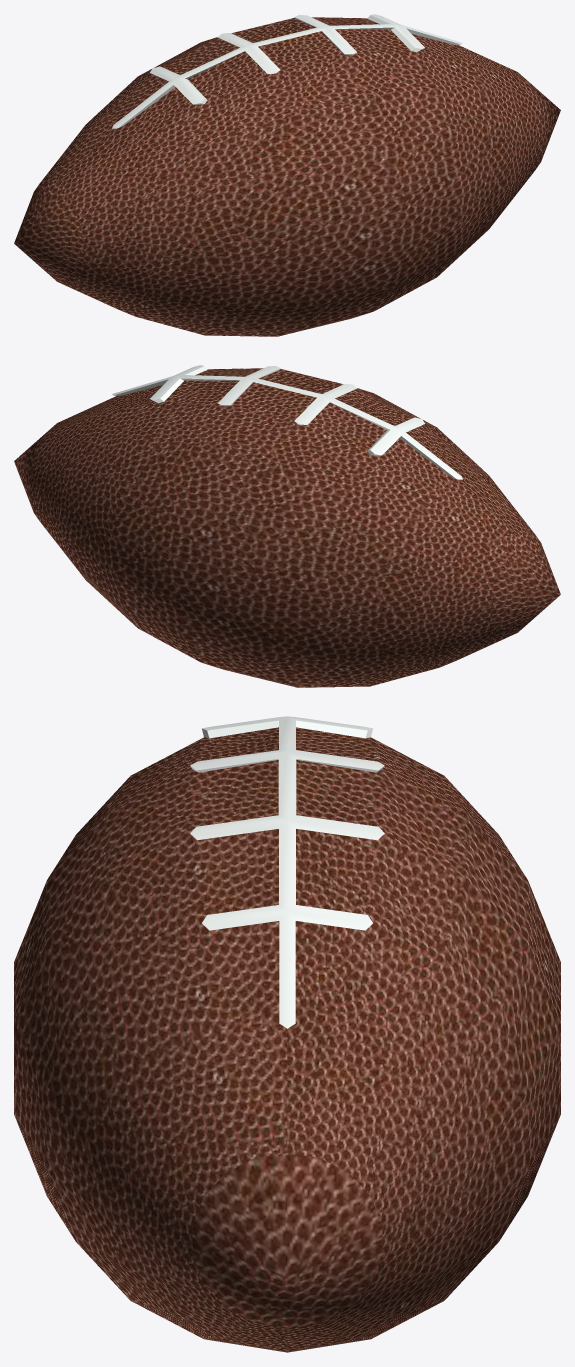
Rendered from Football.fbx.
The picture shows the model from 3 angles, top to bottom: view 1: azimuth 30°, elevation 25°; view 2: azimuth 150°, elevation 25°; view 3: azimuth 270°, elevation 25°; orthographic projection. The views are drawn at different scales.
Visible parts, largest first — view 1: Sphere; view 2: Sphere; view 3: Sphere.
Boxes of the visible parts, bbox=[...] form: Sphere: bbox=[14, 14, 560, 336]; Sphere: bbox=[14, 365, 560, 687]; Sphere: bbox=[14, 716, 560, 1352].
Bounding box in the file's own units: 1054 × 516 × 508.
1 material, 1 textured.
